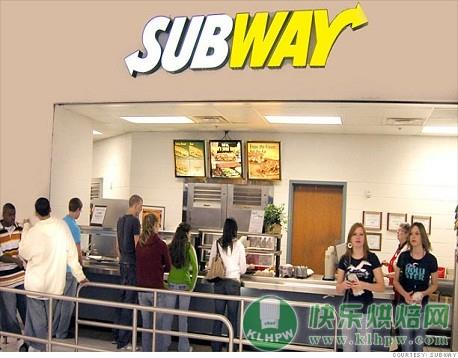subway_food: (118, 3, 370, 80)
